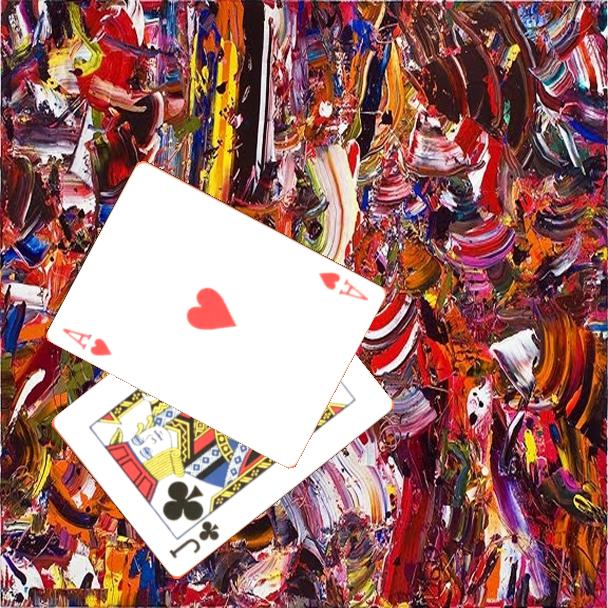c11: (165, 517, 222, 562)
h01: (315, 268, 372, 304), (59, 324, 115, 359)
